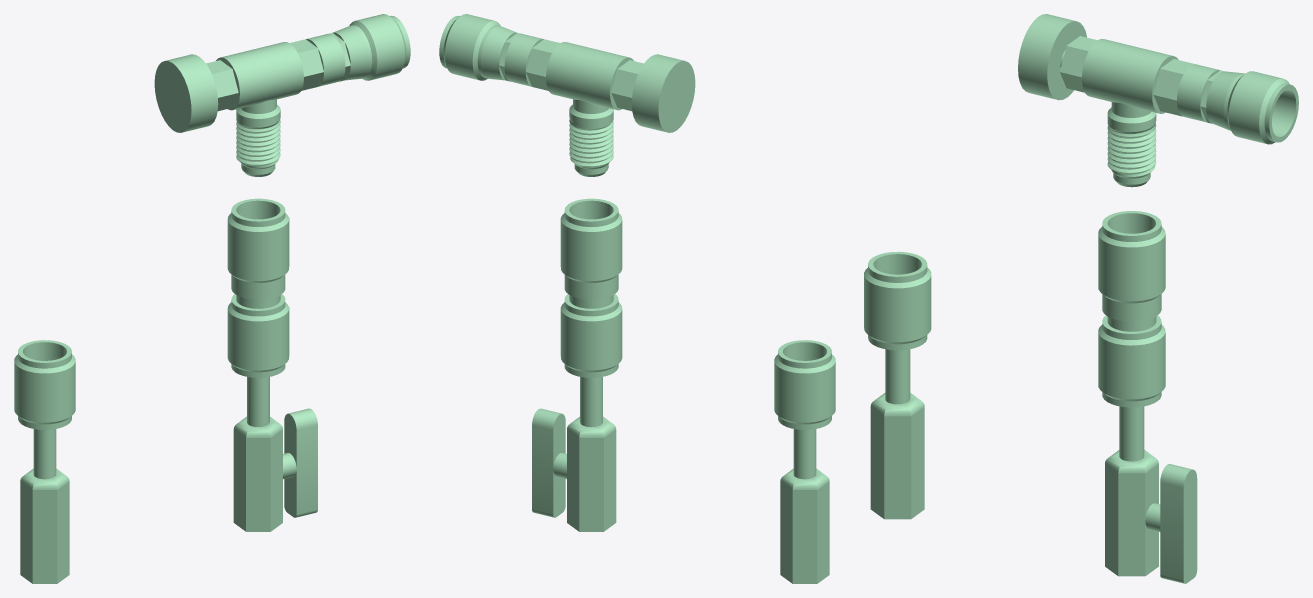
File: TubeSocket.fbx
3 views of the same model, side by side, from view 1: azimuth 30°, elevation 25°; view 2: azimuth 150°, elevation 25°; view 3: azimuth 330°, elevation 25° (orthographic). The views are drawn at different scales.
Visible parts, largest first — view 1: TubeSocket-1-Socket, TubeSocket-1, TubeSocket-2, TubeSocket-1-Switch, TubeSocket-1-Socket-Switch; view 2: TubeSocket-1-Socket, TubeSocket-1, TubeSocket-2, TubeSocket-1-Switch, TubeSocket-1-Socket-Switch; view 3: TubeSocket-1-Socket, TubeSocket-1, TubeSocket-2, TubeSocket-1-Socket-Switch, TubeSocket-1-Switch.
Boxes of the visible parts, x1,y1,x2,y2 form: TubeSocket-1-Socket: (227,198,289,531); TubeSocket-1: (206,14,410,176); TubeSocket-2: (14,340,75,583); TubeSocket-1-Switch: (154,54,218,132); TubeSocket-1-Socket-Switch: (283,408,317,517); TubeSocket-1-Socket: (560,198,622,531); TubeSocket-1: (439,14,643,176); TubeSocket-2: (774,340,835,583); TubeSocket-1-Switch: (631,54,695,132); TubeSocket-1-Socket-Switch: (532,408,566,517); TubeSocket-1-Socket: (1098,211,1165,576); TubeSocket-1: (1060,36,1298,187); TubeSocket-2: (864,251,931,519); TubeSocket-1-Socket-Switch: (1145,464,1197,583); TubeSocket-1-Switch: (1018,14,1086,100).
Bounding box in the file's own units: 35.5 × 43 × 6.
